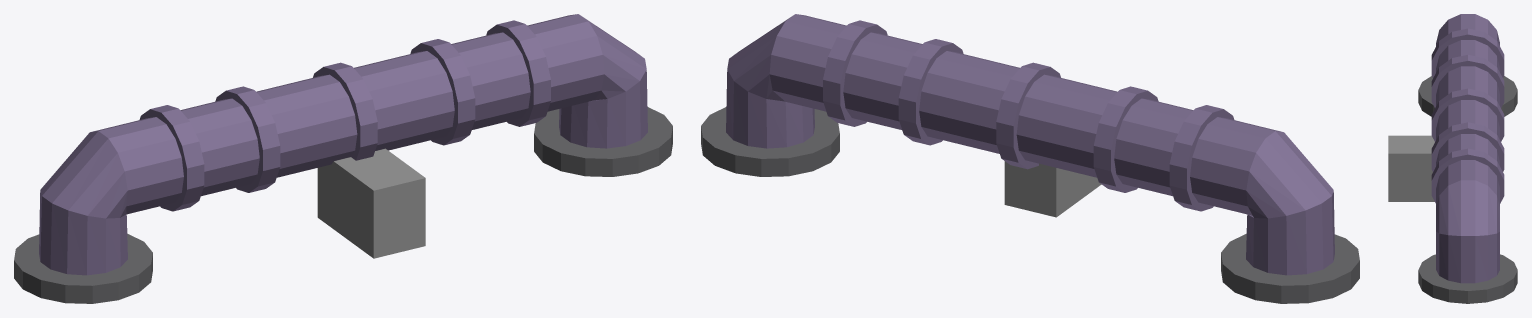
File: vge_astrofuel_pipe_segment.obj
3 views of the same model, side by side, from view 1: azimuth 30°, elevation 25°; view 2: azimuth 150°, elevation 25°; view 3: azimuth 270°, elevation 25° (orthographic). The views are drawn at different scales.
Visible parts, largest first — view 1: vge_astrofuel_pipe_segment_0, vge_astrofuel_pipe_segment_8, vge_astrofuel_pipe_segment_6, vge_astrofuel_pipe_segment_7, vge_astrofuel_pipe_segment_2, vge_astrofuel_pipe_segment_4, vge_astrofuel_pipe_segment_1, vge_astrofuel_pipe_segment_5, vge_astrofuel_pipe_segment_3; view 2: vge_astrofuel_pipe_segment_0, vge_astrofuel_pipe_segment_6, vge_astrofuel_pipe_segment_7, vge_astrofuel_pipe_segment_8, vge_astrofuel_pipe_segment_2, vge_astrofuel_pipe_segment_4, vge_astrofuel_pipe_segment_1, vge_astrofuel_pipe_segment_5, vge_astrofuel_pipe_segment_3; view 3: vge_astrofuel_pipe_segment_0, vge_astrofuel_pipe_segment_8, vge_astrofuel_pipe_segment_7, vge_astrofuel_pipe_segment_2, vge_astrofuel_pipe_segment_5, vge_astrofuel_pipe_segment_3, vge_astrofuel_pipe_segment_4, vge_astrofuel_pipe_segment_1, vge_astrofuel_pipe_segment_6.
Part boxes in pixels (left/top/right/bottom): vge_astrofuel_pipe_segment_0: left=39, top=14, right=647, bottom=275; vge_astrofuel_pipe_segment_8: left=317, top=148, right=425, bottom=258; vge_astrofuel_pipe_segment_6: left=14, top=233, right=152, bottom=303; vge_astrofuel_pipe_segment_7: left=534, top=107, right=672, bottom=176; vge_astrofuel_pipe_segment_2: left=215, top=86, right=280, bottom=192; vge_astrofuel_pipe_segment_4: left=410, top=39, right=475, bottom=145; vge_astrofuel_pipe_segment_1: left=139, top=105, right=204, bottom=211; vge_astrofuel_pipe_segment_5: left=486, top=20, right=550, bottom=126; vge_astrofuel_pipe_segment_3: left=313, top=62, right=377, bottom=160; vge_astrofuel_pipe_segment_0: left=726, top=14, right=1334, bottom=275; vge_astrofuel_pipe_segment_6: left=1221, top=233, right=1359, bottom=303; vge_astrofuel_pipe_segment_7: left=701, top=107, right=839, bottom=176; vge_astrofuel_pipe_segment_8: left=1004, top=161, right=1101, bottom=217; vge_astrofuel_pipe_segment_2: left=1093, top=86, right=1158, bottom=192; vge_astrofuel_pipe_segment_4: left=898, top=39, right=963, bottom=145; vge_astrofuel_pipe_segment_1: left=1169, top=105, right=1234, bottom=211; vge_astrofuel_pipe_segment_5: left=823, top=20, right=887, bottom=126; vge_astrofuel_pipe_segment_3: left=996, top=62, right=1060, bottom=169; vge_astrofuel_pipe_segment_0: left=1436, top=14, right=1499, bottom=283; vge_astrofuel_pipe_segment_8: left=1388, top=135, right=1434, bottom=201; vge_astrofuel_pipe_segment_7: left=1418, top=254, right=1517, bottom=303; vge_astrofuel_pipe_segment_2: left=1431, top=55, right=1504, bottom=107; vge_astrofuel_pipe_segment_5: left=1431, top=148, right=1504, bottom=203; vge_astrofuel_pipe_segment_3: left=1431, top=88, right=1504, bottom=141; vge_astrofuel_pipe_segment_4: left=1431, top=122, right=1504, bottom=171; vge_astrofuel_pipe_segment_1: left=1431, top=28, right=1504, bottom=77; vge_astrofuel_pipe_segment_6: left=1418, top=76, right=1517, bottom=116.
Bounding box in the file's own units: 2.96 × 0.63 × 0.73.
